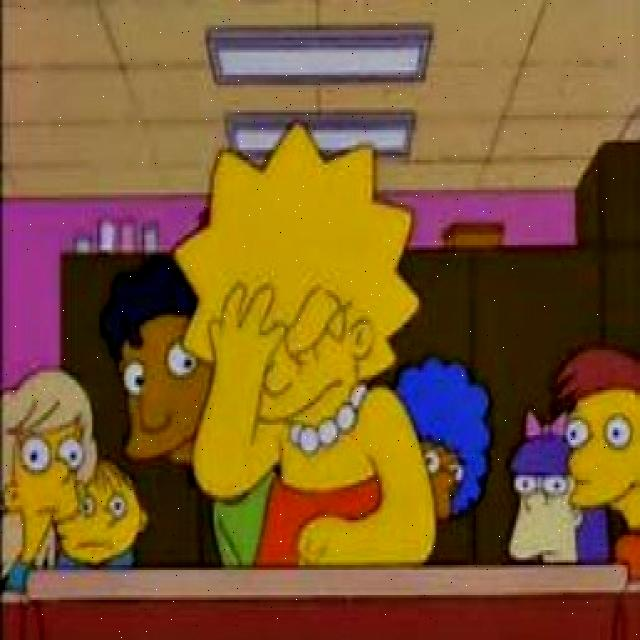Lisa Simpson: (175, 119, 421, 461)
